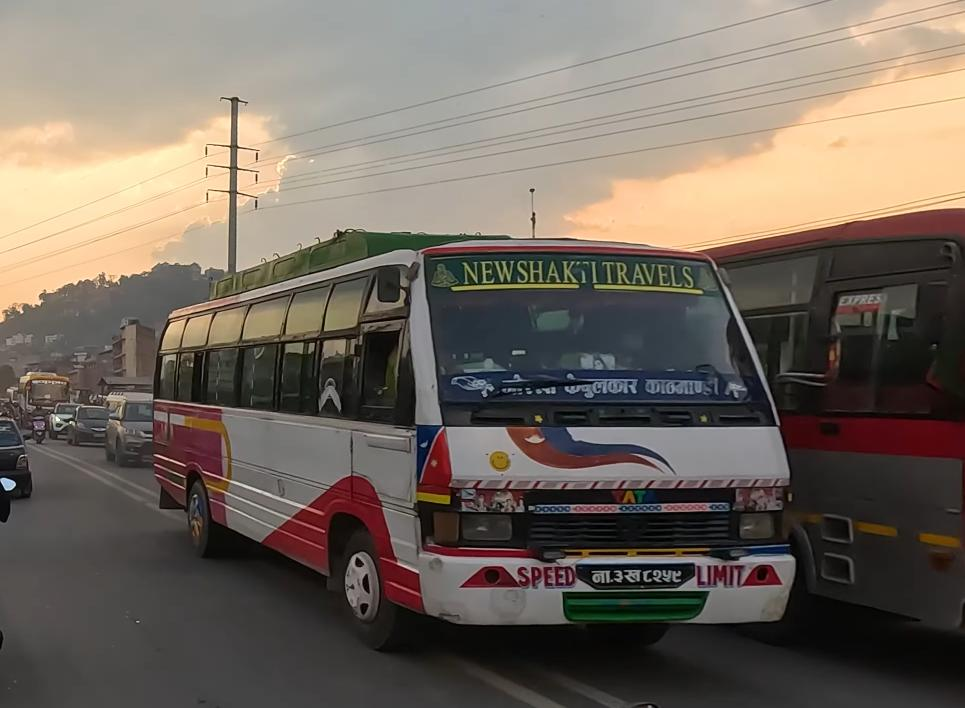bus: (142, 220, 804, 665)
